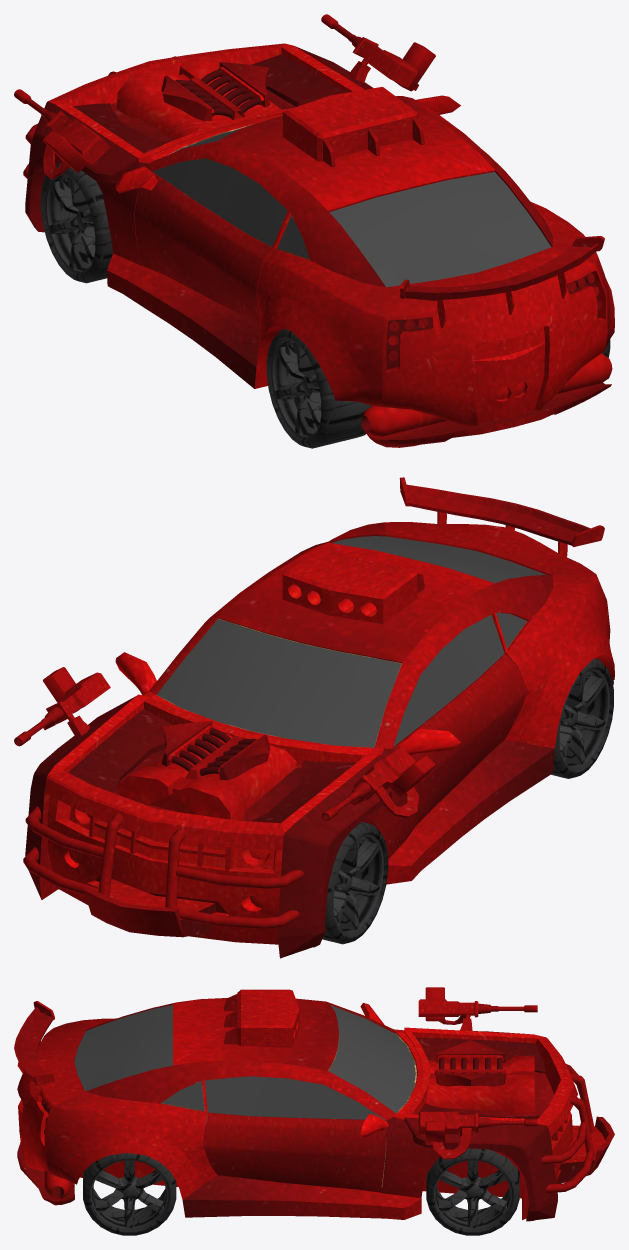
The model's file is car.fbx.
3 renders of one model, top to bottom at view 1: azimuth 30°, elevation 25°; view 2: azimuth 150°, elevation 25°; view 3: azimuth 270°, elevation 25°, orthographic. The views are drawn at different scales.
Visible parts, largest first — view 1: The Duke; view 2: The Duke; view 3: The Duke.
Part boxes in pixels (box(x1,y1,x2,y2)): The Duke: box(14, 14, 614, 448); The Duke: box(14, 477, 614, 958); The Duke: box(14, 987, 614, 1235).
Bounding box in the file's own units: 8351 × 4891 × 14979.
